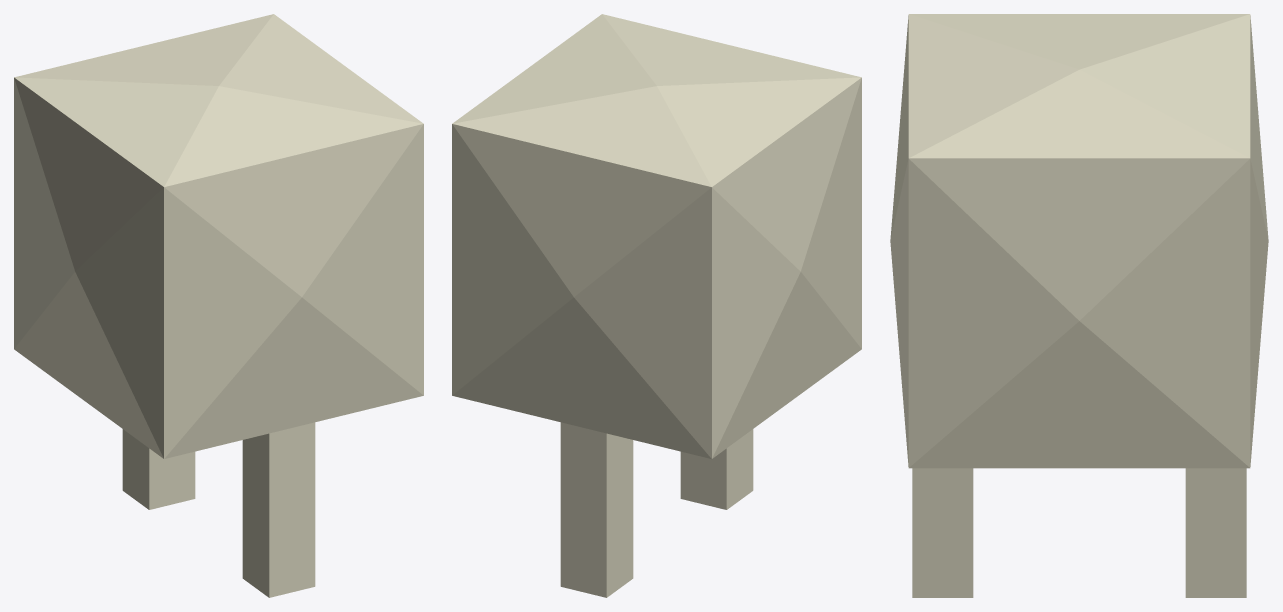
File: VentilBox.fbx
3 views of the same model, side by side, from view 1: azimuth 30°, elevation 25°; view 2: azimuth 150°, elevation 25°; view 3: azimuth 270°, elevation 25° (orthographic). The views are drawn at different scales.
Visible parts, largest first — view 1: VentilBox; view 2: VentilBox; view 3: VentilBox.
Part boxes in pixels (x1,y1,x2,y2): VentilBox: (14, 14, 423, 597); VentilBox: (452, 14, 861, 597); VentilBox: (890, 14, 1268, 597).
Size of the model in its own units: 111 by 166 by 111.
